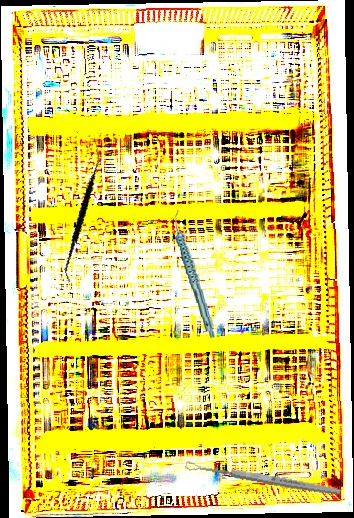Handpiece: (173, 208, 215, 341)
Spatula Surgical: (33, 148, 133, 283)
Surgical Spoon: (184, 459, 342, 498)
